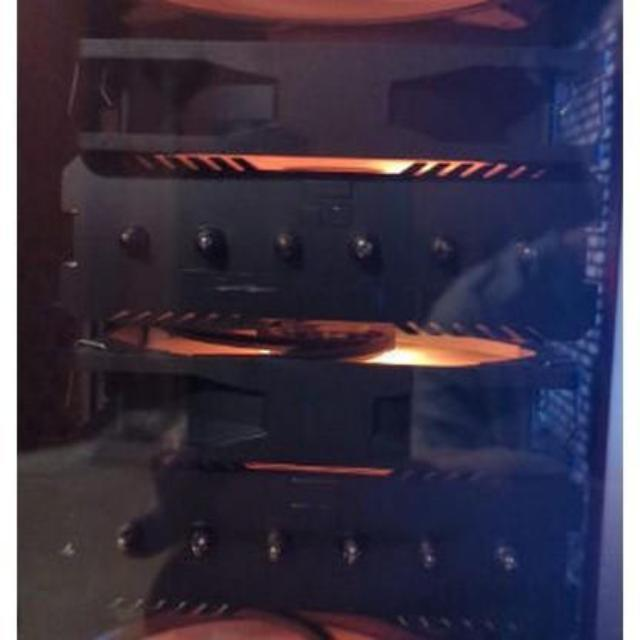CPU_Fan: (58, 32, 592, 630)
